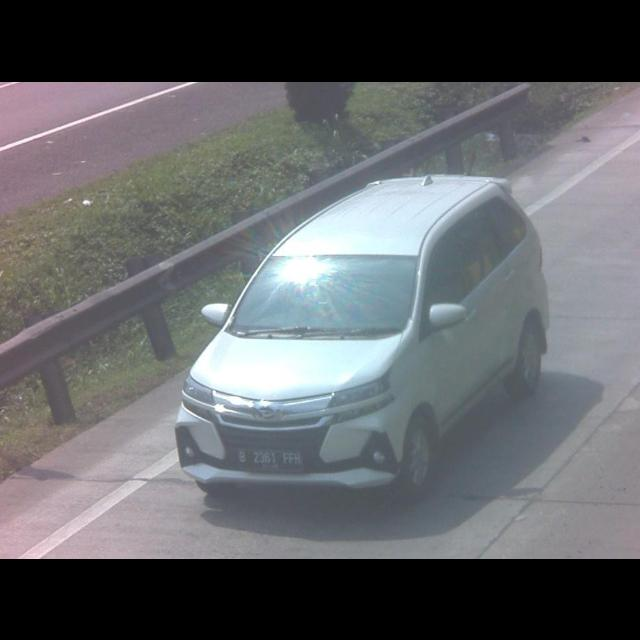plate: (238, 448, 302, 468)
